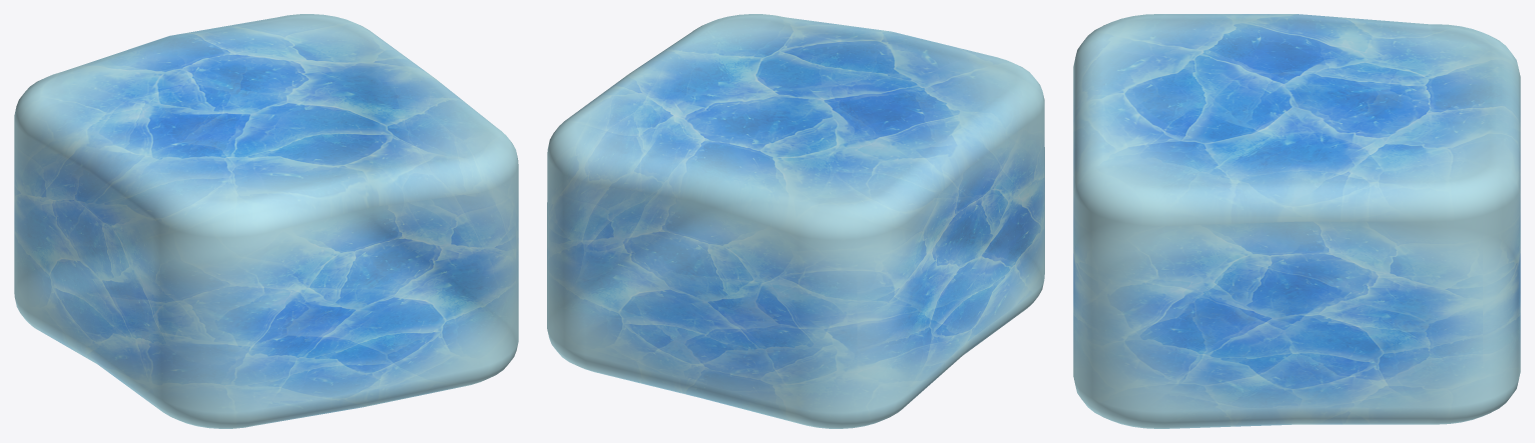
The model's file is IceCube_4x4.fbx.
3 views of the same model, side by side, from view 1: azimuth 30°, elevation 25°; view 2: azimuth 150°, elevation 25°; view 3: azimuth 270°, elevation 25° (orthographic). The views are drawn at different scales.
Visible parts, largest first — view 1: IceCube_4x4; view 2: IceCube_4x4; view 3: IceCube_4x4.
Part boxes in pixels (x1=…): IceCube_4x4: x1=14, y1=14, x2=518, y2=428; IceCube_4x4: x1=547, y1=14, x2=1044, y2=428; IceCube_4x4: x1=1073, y1=14, x2=1520, y2=428.
Size of the model in its own units: 5.99 by 3.86 by 6.2.
Materials: 1 (1 with a texture image).
